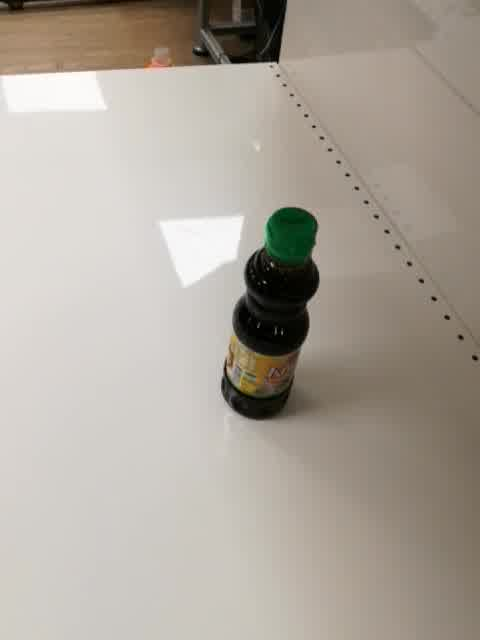cookingoil: (218, 206, 322, 422)
